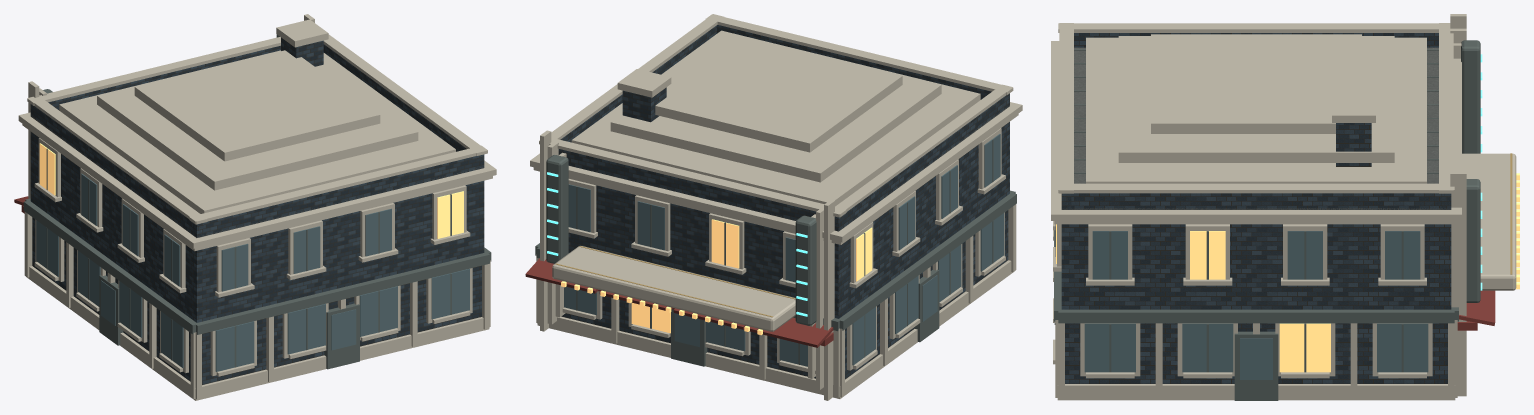
The model's file is bluehour.glb.
The picture shows the model from 3 angles, left to right: view 1: azimuth 30°, elevation 25°; view 2: azimuth 150°, elevation 25°; view 3: azimuth 270°, elevation 25°; orthographic projection. The views are drawn at different scales.
Visible parts, largest first — view 1: foundation, masonry, window pane, roof tar seam, window pane.007, roof; view 2: foundation, masonry, window pane, roof tar seam, window pane.007, canvas awning, marquee brass edge, neon blade tube; view 3: foundation, masonry, window pane, roof tar seam, window pane.007, roof, canvas awning.
Boxes of the visible parts, x1,y1,x2,y2 form: foundation: (18,14,496,400); masonry: (30,37,484,384); window pane: (36,173,469,371); roof tar seam: (23,34,491,369); window pane.007: (39,143,463,238); roof: (30,115,483,237); foundation: (530,14,1022,400); masonry: (558,25,1009,379); window pane: (564,134,1004,366); roof tar seam: (535,139,1016,366); window pane.007: (561,219,872,335); canvas awning: (525,258,833,347); marquee brass edge: (555,246,795,317); neon blade tube: (547,172,807,316); foundation: (1051,14,1516,400); masonry: (1061,33,1451,383); window pane: (1084,231,1428,379); roof tar seam: (1054,40,1480,400); window pane.007: (1056,173,1519,372); roof: (1062,47,1451,209); canvas awning: (1457,290,1495,330).
Size of the model in its own units: 12.65 by 8.82 by 14.44.
Materials: 9 (2 with a texture image).
